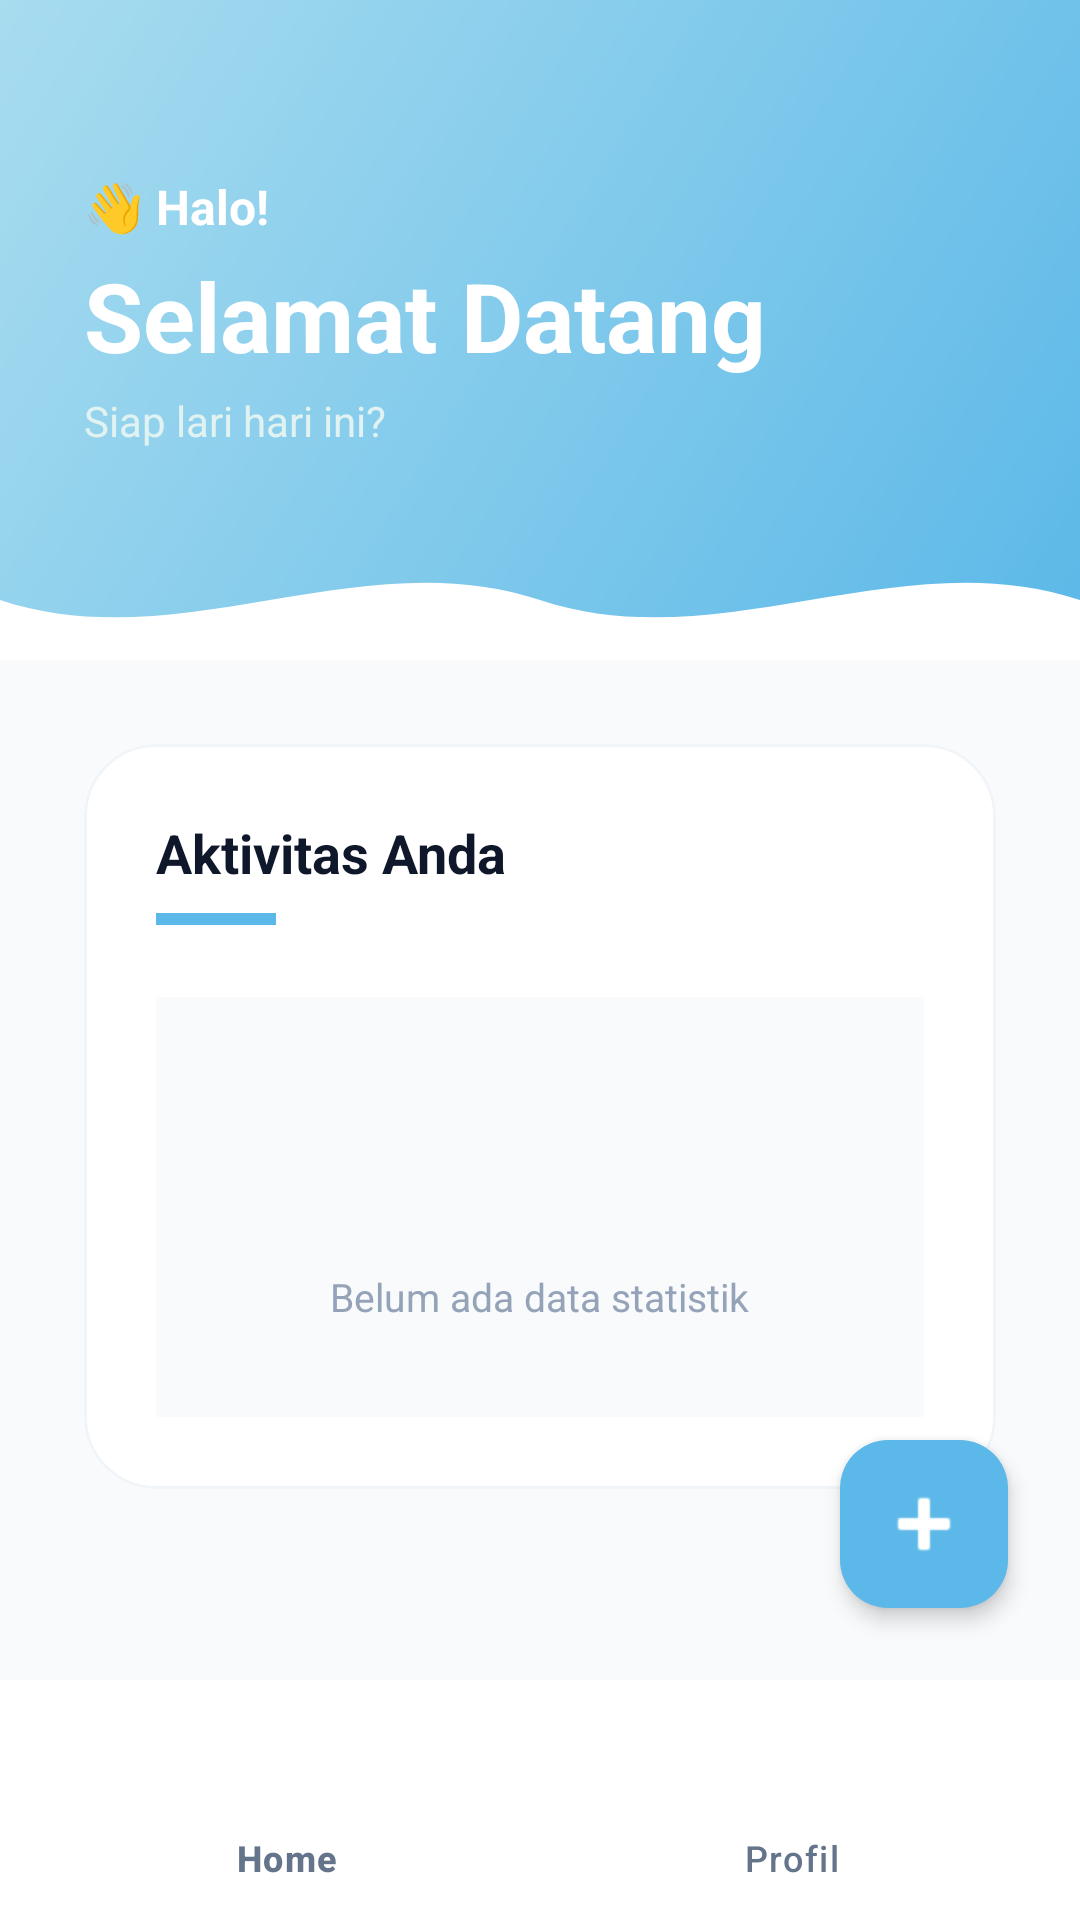

Locate icon controls on the screen. Image size 1080px×1920px, boxes as (x1, y1, x2, y2).
Tambah Lari: (840, 1440, 1008, 1608)
